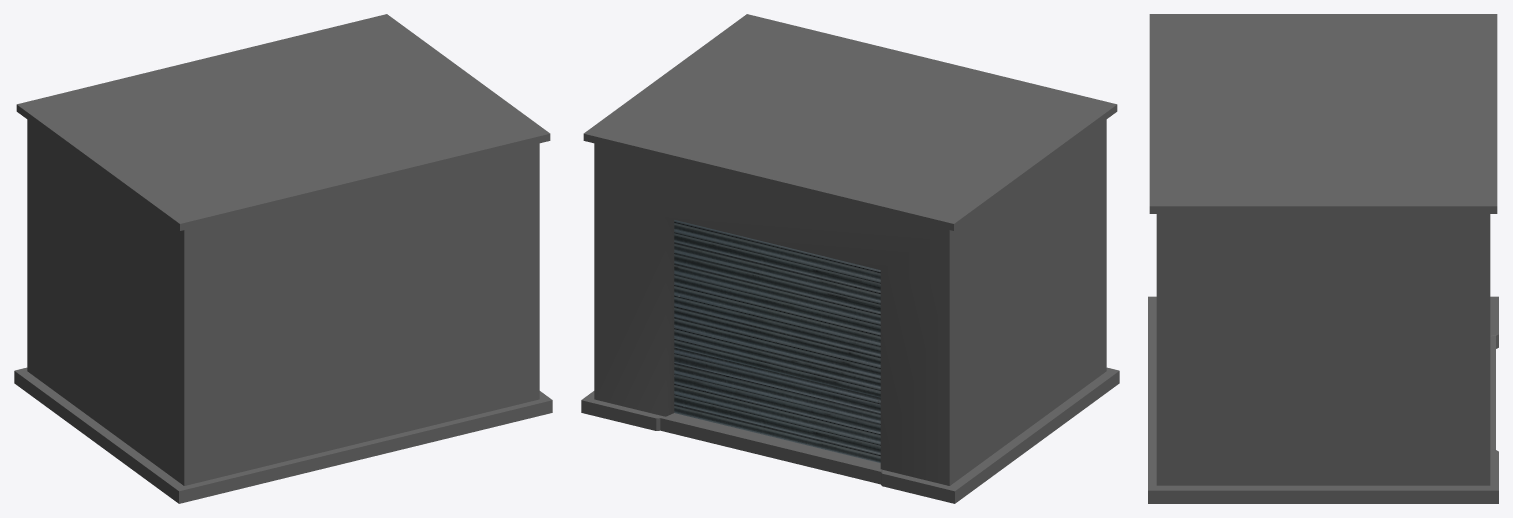
The model's file is Sewage.fbx.
3 views of the same model, side by side, from view 1: azimuth 30°, elevation 25°; view 2: azimuth 150°, elevation 25°; view 3: azimuth 270°, elevation 25° (orthographic). The views are drawn at different scales.
Parts seen in each view (by area): view 1: Sewage_block; view 2: Sewage_block; view 3: Sewage_block.
Boxes of the visible parts, x1=… form: Sewage_block: x1=14, y1=14, x2=552, y2=503; Sewage_block: x1=581, y1=14, x2=1119, y2=503; Sewage_block: x1=1148, y1=14, x2=1498, y2=503.
Size of the model in its own units: 1783 by 1273 by 1363.
Materials: 2 (1 with a texture image).
